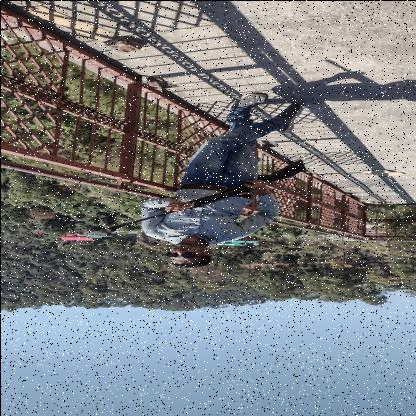rifle: (103, 158, 307, 232)
